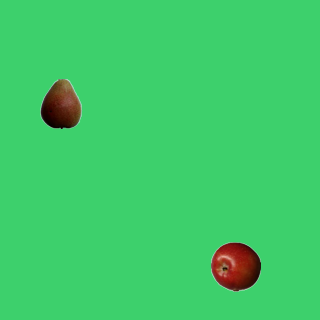Apple Braeburn: (210, 241, 260, 291)
Pear Forelle: (35, 78, 85, 128)
